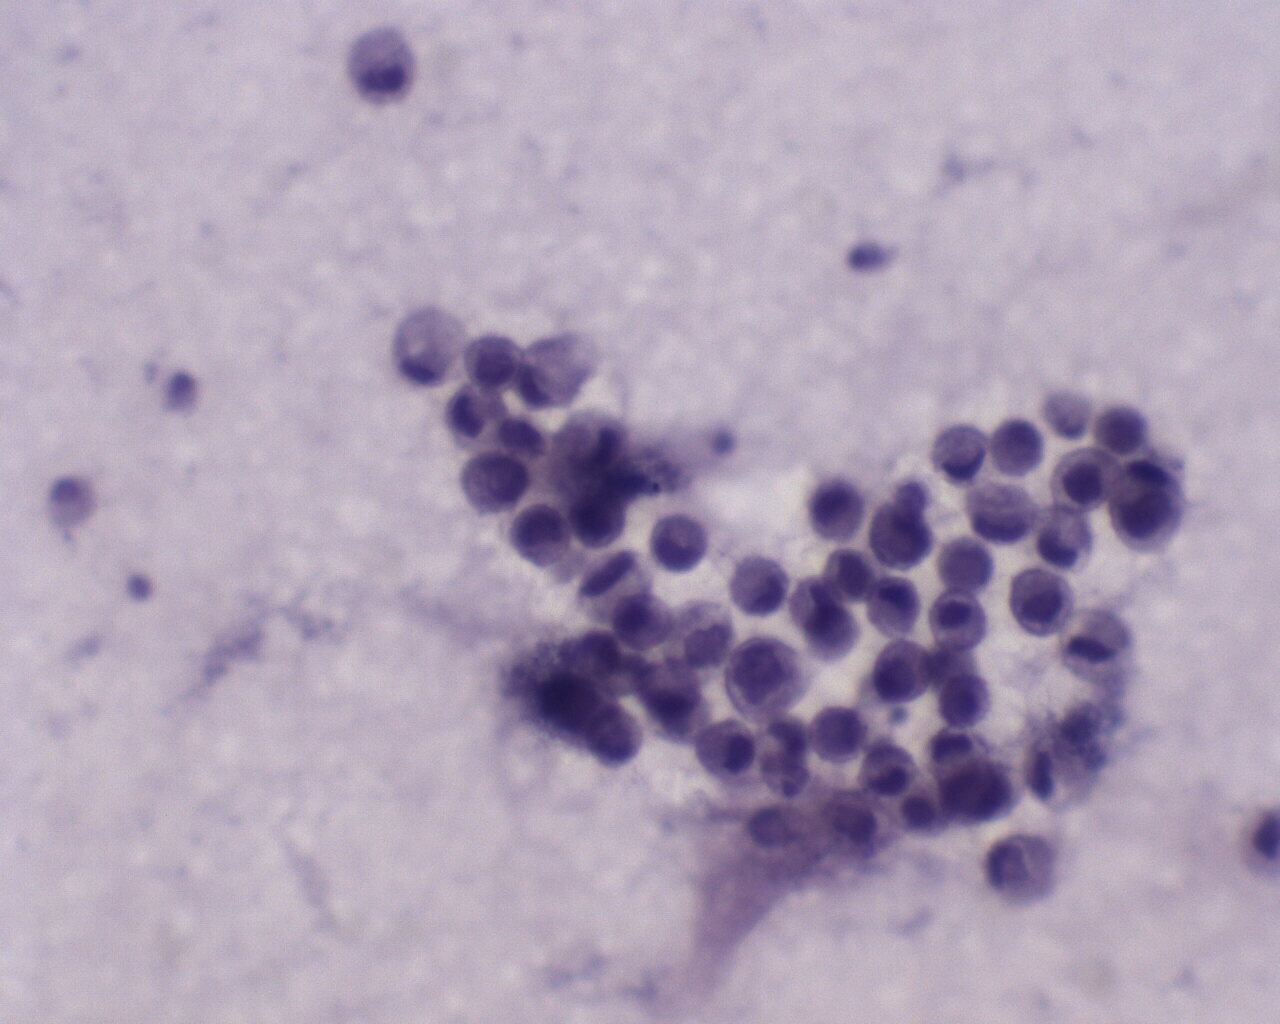ab: (725, 637, 817, 723), (941, 759, 1024, 824), (457, 448, 530, 522), (644, 507, 717, 578), (865, 501, 935, 573), (568, 486, 633, 555), (586, 700, 644, 770), (807, 702, 868, 765), (937, 670, 997, 728)
histo: (343, 22, 418, 110), (393, 306, 467, 392)
meso: (1041, 446, 1119, 517), (1005, 565, 1077, 639), (924, 587, 995, 652), (459, 333, 523, 395), (808, 480, 871, 540), (870, 641, 929, 700)
